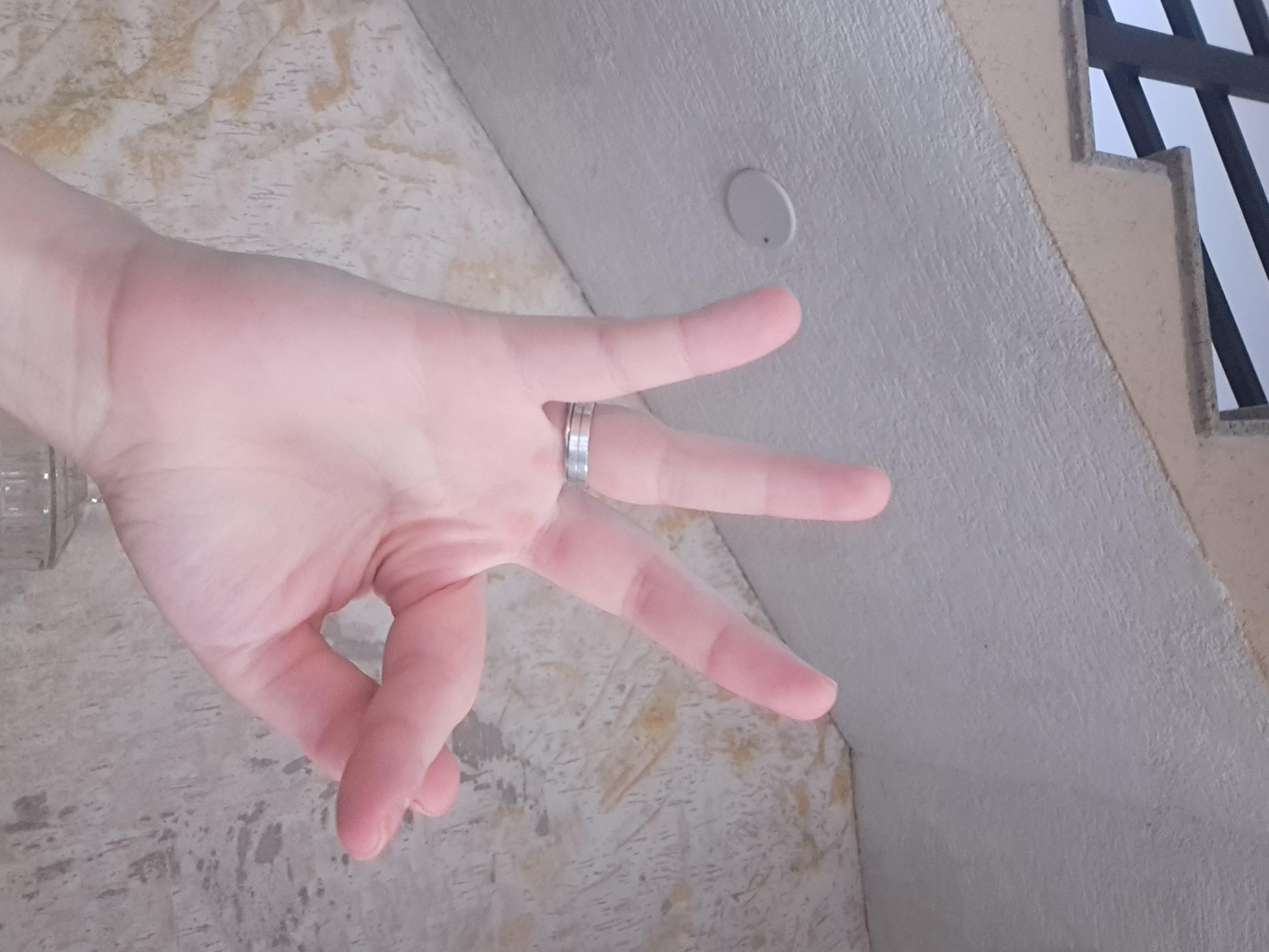F: (316, 280, 1187, 869)
